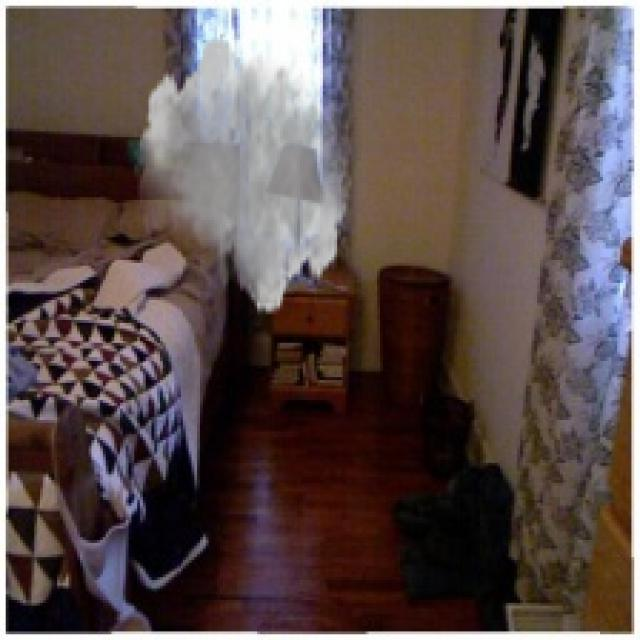smoke: (134, 34, 352, 317)
